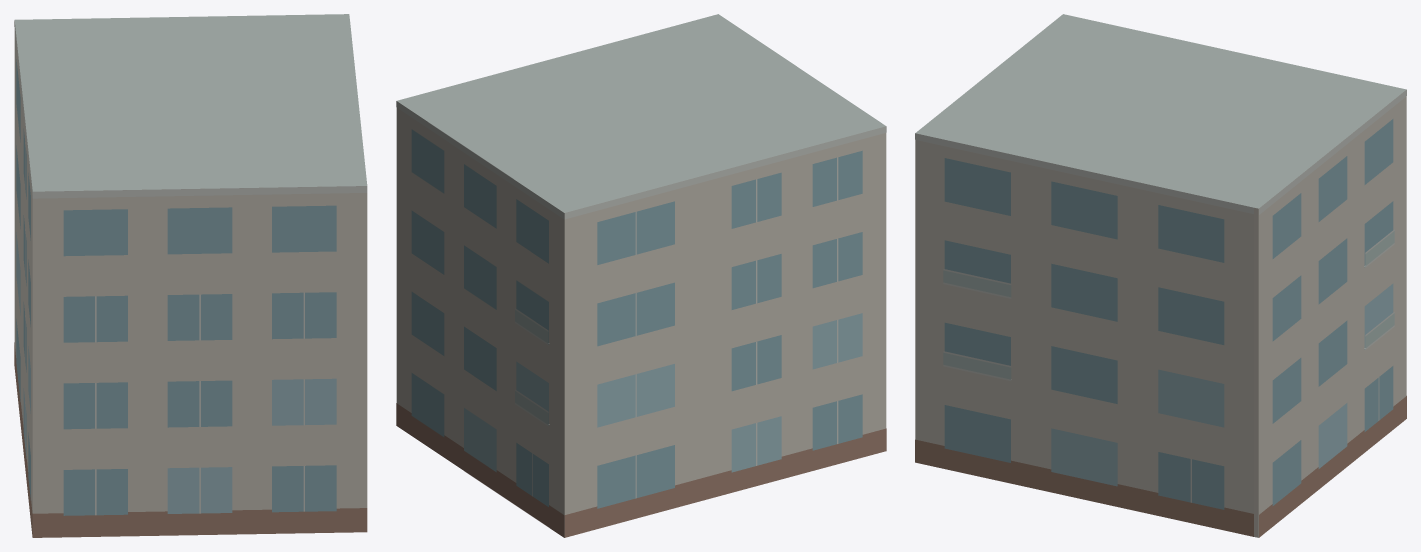
File: survey-upis-33009658.glb
3 renders of one model, left to right at view 1: azimuth 30°, elevation 25°; view 2: azimuth 150°, elevation 25°; view 3: azimuth 270°, elevation 25°, orthographic. The views are drawn at different scales.
Parts seen in each view (by area): view 1: survey-upis-33009658.tmp; view 2: survey-upis-33009658.tmp; view 3: survey-upis-33009658.tmp.
Part boxes in pixels (left/top/right/bottom): survey-upis-33009658.tmp: left=14, top=14, right=367, bottom=537; survey-upis-33009658.tmp: left=396, top=14, right=886, bottom=537; survey-upis-33009658.tmp: left=915, top=14, right=1406, bottom=537.
Bounding box in the file's own units: 15.47 × 12.2 × 16.52.
